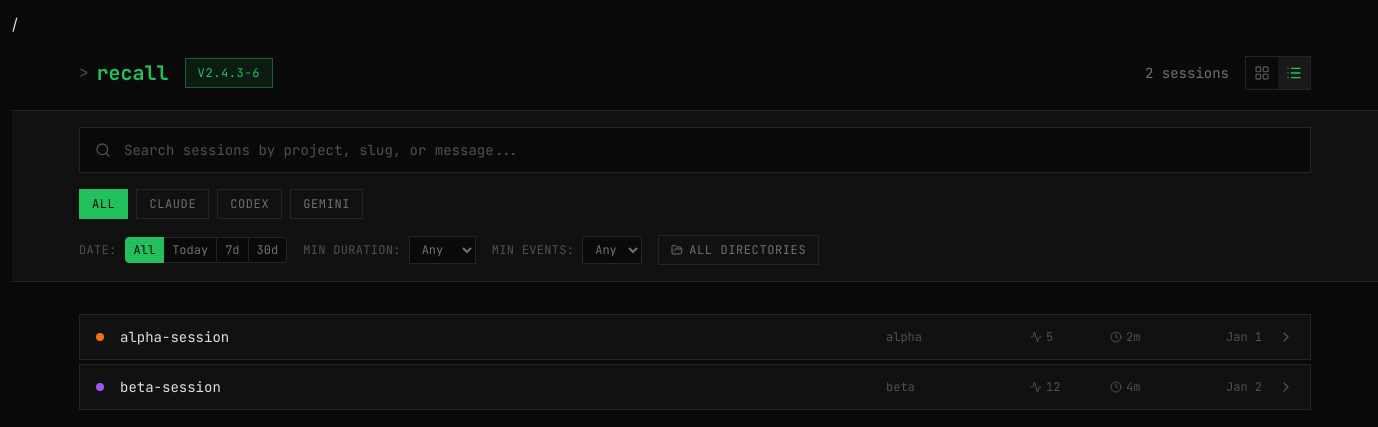
Test case: SessionListPage › filters sessions by search query
Expected: the text "alpha-session" is shown, [120, 327, 229, 347]
Expected: the text "beta-session" is shown, [120, 377, 221, 397]
Type "alpha" into the field with placeholder "Search sessions by project, slug, or message...".
click(695, 150); type("alpha")  # box [79, 127, 1311, 173]
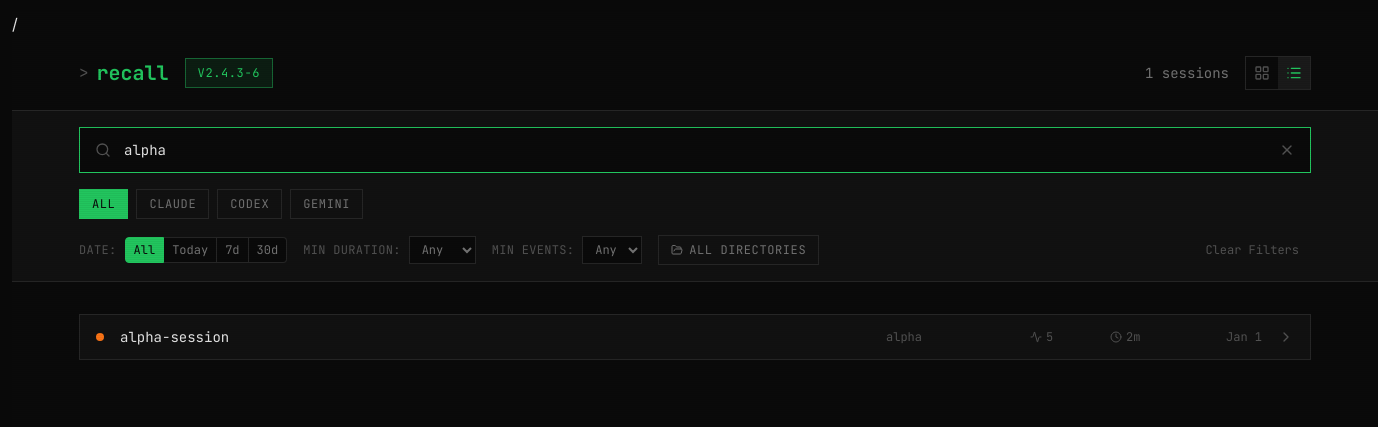
Expected: the text "alpha-session" is shown, [120, 327, 229, 347]
Result: the button "beta-session" is gone
